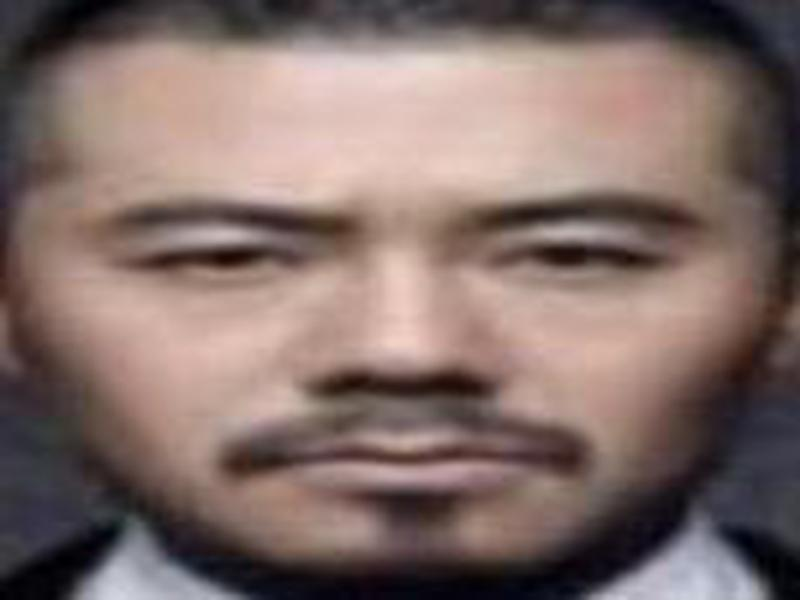without_mask: (44, 46, 749, 593)
